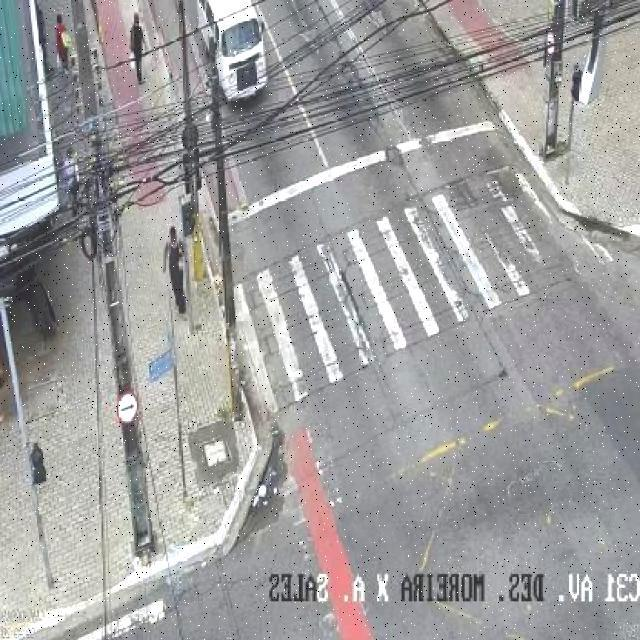Van: (192, 0, 272, 100)
